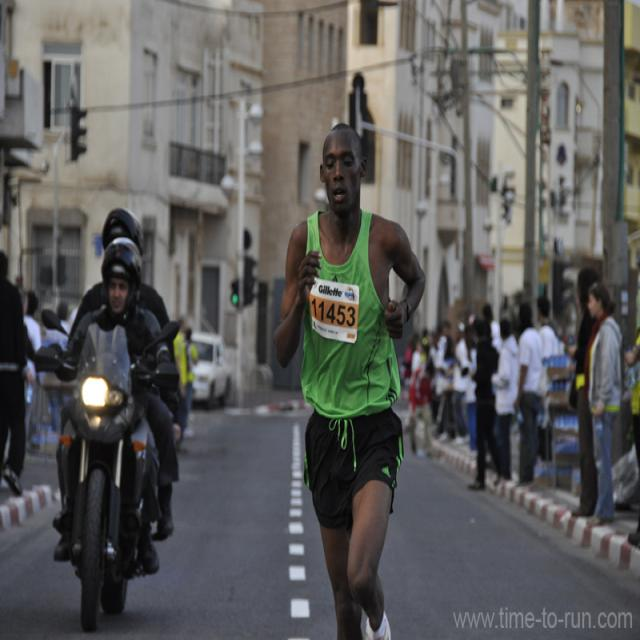Bib: (311, 296, 356, 328)
